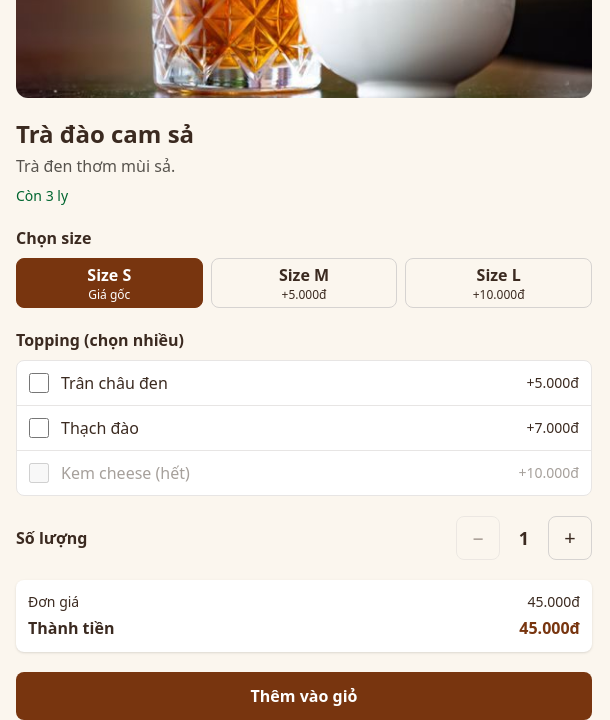
it: Màn chi tiết món (CT-25 – CT-31) › CT-28: số lượng nhỏ nhất là 1, lớn nhất bằng số ly còn
The width and height of the screenshot is (610, 720).
(page scrolled)
expect the heading "Trà đào cam sả" is shown: met, box [16,117,194,150]
expect the button named "Giảm số lượng" is disabled: met, box [456,516,500,560]
What coordinates should you click on to do the following:
click the button named "Tăng số lượng"
I would click on:
 (570, 538)
Its box is [548,516,592,560].
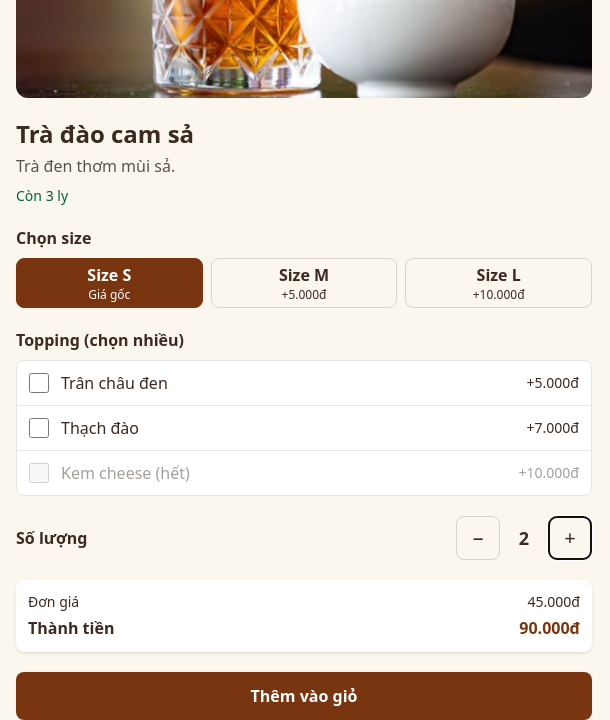
What coordinates should you click on to do the following:
click the button named "Tăng số lượng"
I would click on:
 (570, 538)
Its box is [548,516,592,560].
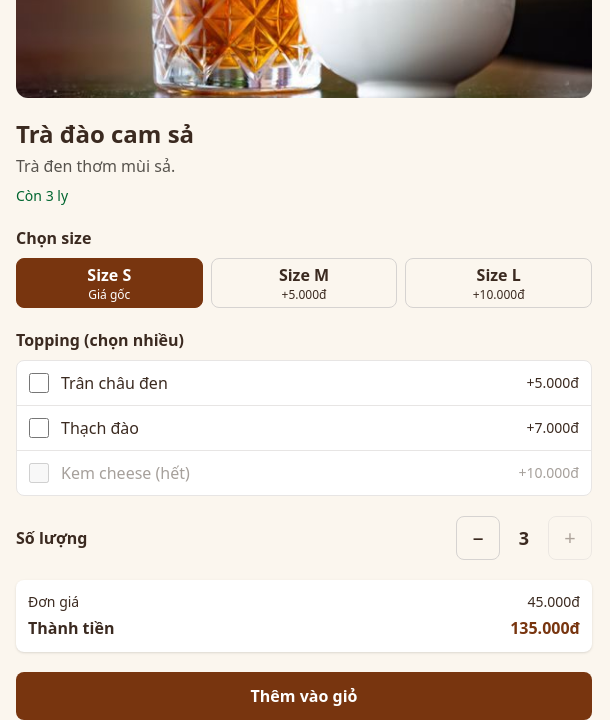
expect the text "3" is shown: met, box [519,526,529,550]
expect the button named "Tăng số lượng" is disabled: met, box [548,516,592,560]
